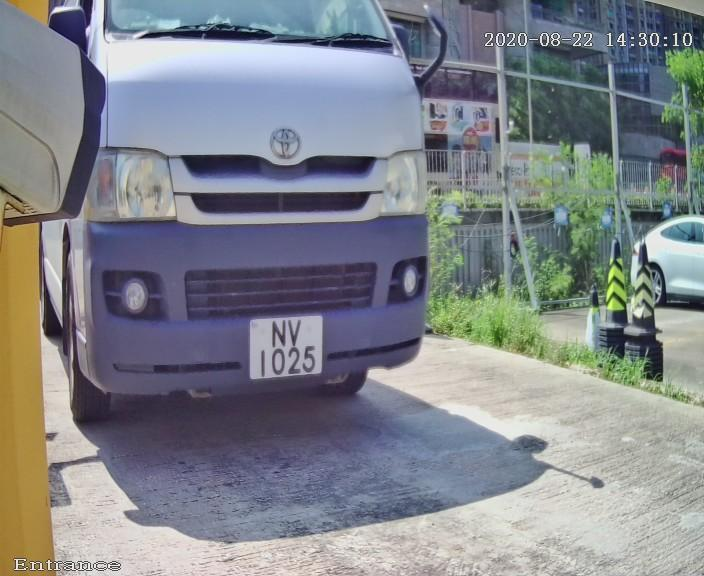License Plate: (243, 309, 331, 389)
